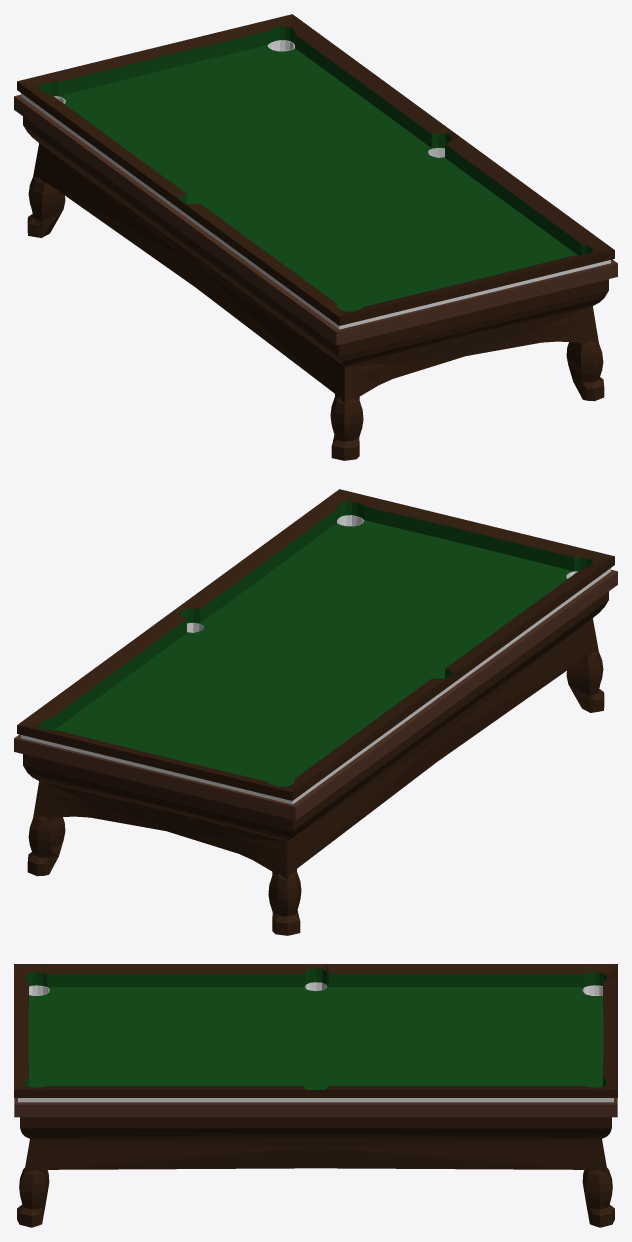
The model's file is LoungePoolTableUV.fbx.
3 views of the same model, one above another, from view 1: azimuth 30°, elevation 25°; view 2: azimuth 150°, elevation 25°; view 3: azimuth 270°, elevation 25° (orthographic). The views are drawn at different scales.
Parts seen in each view (by area): view 1: pooltable1; view 2: pooltable1; view 3: pooltable1.
Boxes of the visible parts, x1,y1,x2,y2 form: pooltable1: [14, 14, 617, 460]; pooltable1: [14, 489, 617, 935]; pooltable1: [14, 964, 617, 1227].
Size of the model in its own units: 218 by 109 by 432.
